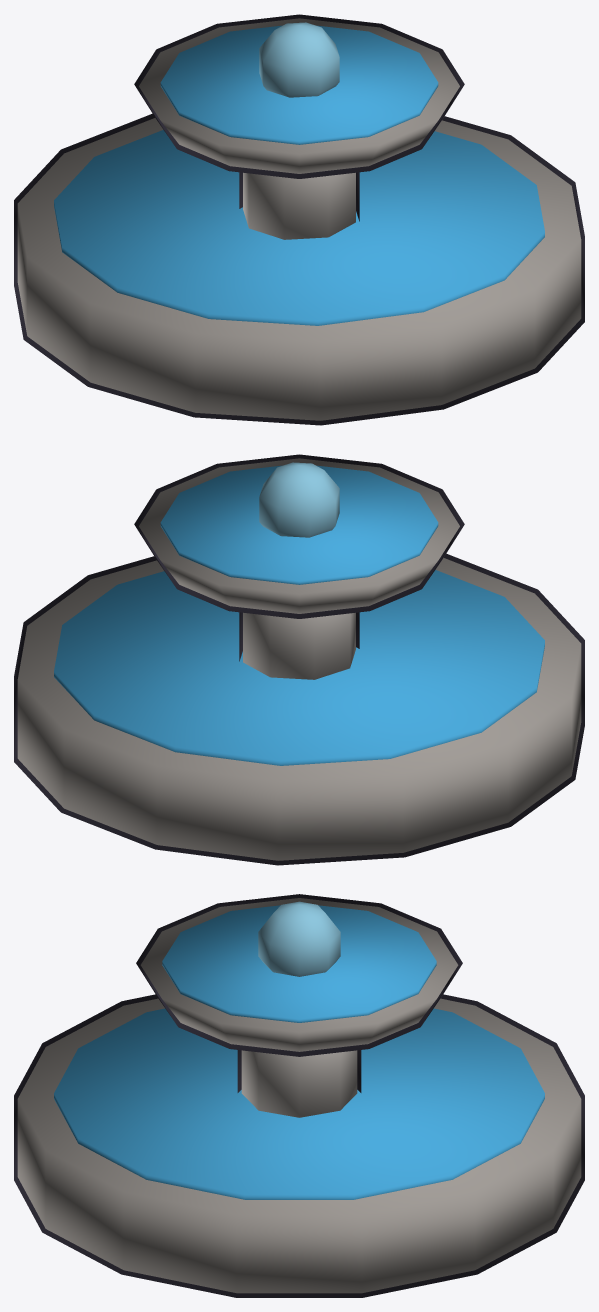
File: fountain.glb
3 views of the same model, one above another, from view 1: azimuth 30°, elevation 25°; view 2: azimuth 150°, elevation 25°; view 3: azimuth 270°, elevation 25° (orthographic).
Parts seen in each view (by area): view 1: fountain; view 2: fountain; view 3: fountain.
Boxes of the visible parts, x1,y1,x2,y2 form: fountain: (14, 14, 584, 425); fountain: (14, 454, 584, 865); fountain: (14, 894, 584, 1297).
Size of the model in its own units: 3.85 by 2.1 by 3.95.
